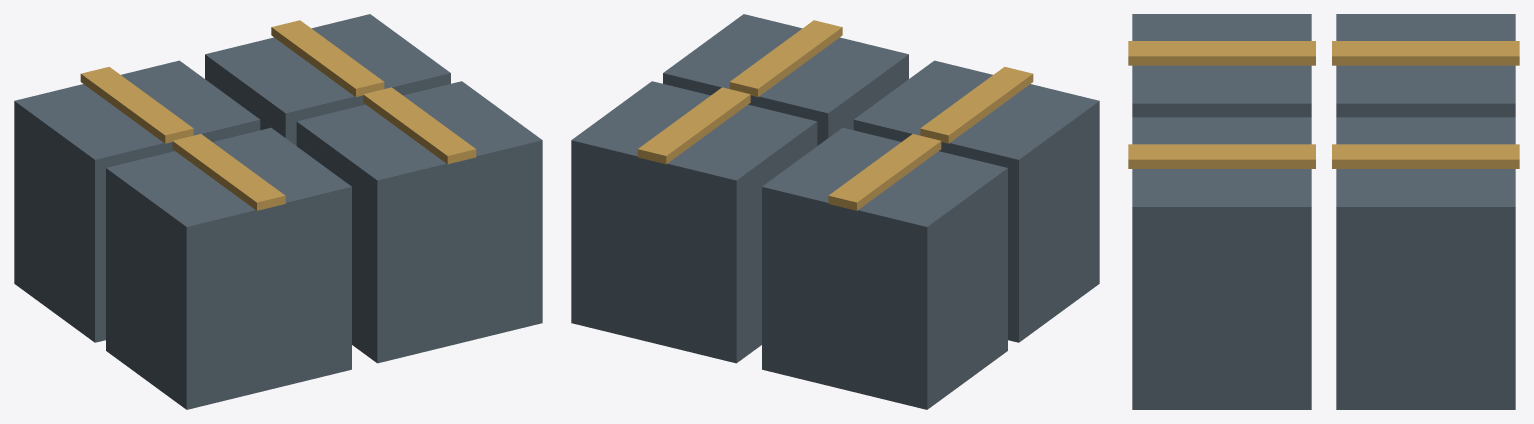
File: depot.glb
3 renders of one model, left to right at view 1: azimuth 30°, elevation 25°; view 2: azimuth 150°, elevation 25°; view 3: azimuth 270°, elevation 25°, orthographic. The views are drawn at different scales.
Visible parts, largest first — view 1: supply crate, supply crate.002, supply crate.001, supply crate.003, crate band.002, crate band, crate band.001, crate band.003; view 2: supply crate.001, supply crate.003, supply crate, supply crate.002, crate band.003, crate band.001, crate band, crate band.002; view 3: supply crate.002, supply crate.003, supply crate, supply crate.001, crate band, crate band.001, crate band.002, crate band.003.
Part boxes in pixels (box(x1,y1,x2,y2)): supply crate: box(106, 127, 351, 409); supply crate.002: box(296, 81, 542, 363); supply crate.001: box(14, 60, 260, 342); supply crate.003: box(205, 14, 450, 145); crate band.002: box(363, 87, 476, 164); crate band: box(172, 134, 285, 210); crate band.001: box(80, 66, 193, 143); crate band.003: box(271, 20, 384, 96); supply crate.001: box(762, 127, 1007, 409); supply crate.003: box(571, 81, 817, 363); supply crate: box(853, 60, 1099, 342); supply crate.002: box(663, 14, 908, 145); crate band.003: box(637, 87, 750, 164); crate band.001: box(828, 134, 941, 210); crate band: box(920, 66, 1033, 143); crate band.002: box(729, 20, 842, 96); supply crate.002: box(1132, 117, 1311, 409); supply crate.003: box(1336, 117, 1515, 409); supply crate: box(1132, 14, 1311, 117); supply crate.001: box(1336, 14, 1515, 117); crate band: box(1128, 41, 1315, 65); crate band.001: box(1332, 41, 1519, 65); crate band.002: box(1128, 144, 1315, 168); crate band.003: box(1332, 144, 1519, 168).
Bounding box in the file's own units: 1.12 × 0.5775 × 0.96.
